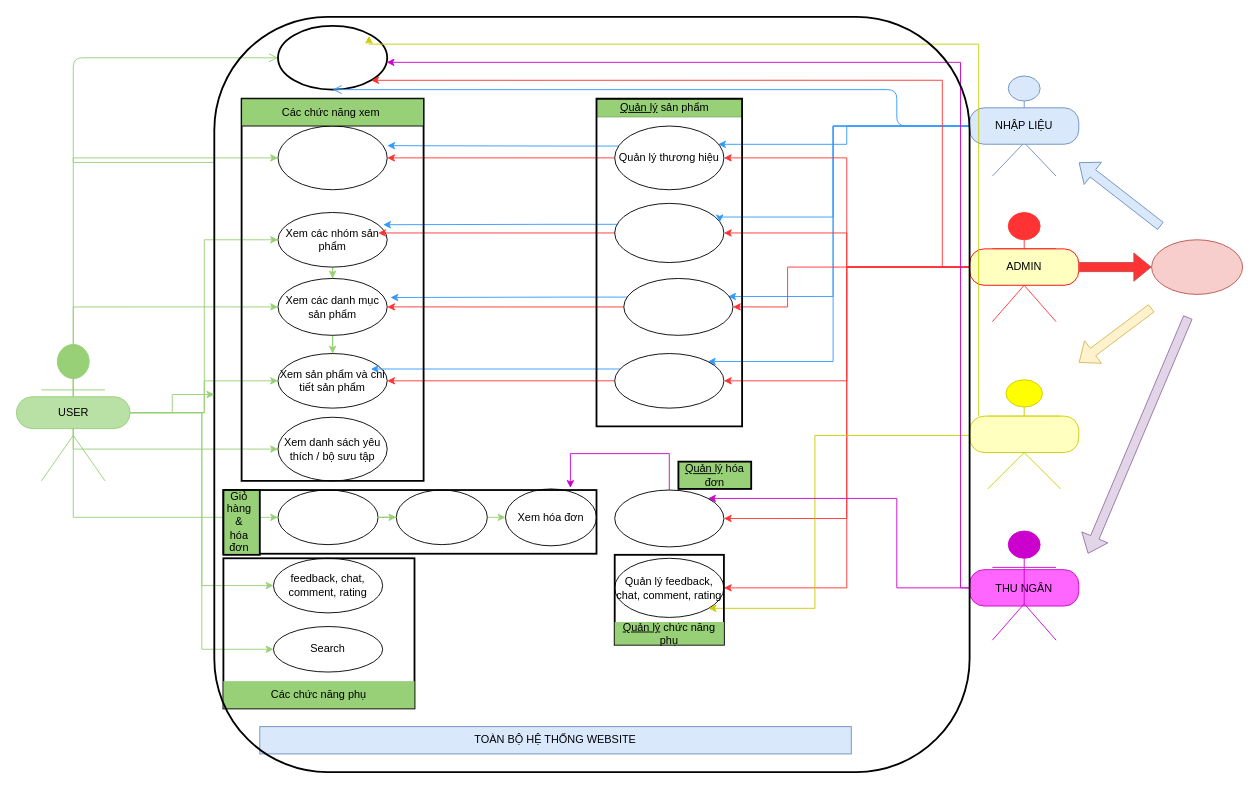
Some shapes in this 1259 by 788 pixel diagram are drawn without their labels. Each missing label, with the centre of its shape:
"phân quyền" goes at point 1197,266.
"Quản lý danh mục" goes at point 678,306.
"Quản lý giỏ hàng" goes at point 327,517.
"Quản lý nhóm" goes at point 669,232.
"Quản lý sản phẩm & chi tiết sản phẩm" goes at point 669,380.
"Quản lý tất cả hóa đơn" goes at point 669,518.
"QUẢN TRỊ VIÊN" goes at point 1024,434.
"Xem danh sách thương hiệu" goes at point 332,157.
"Xem lịch sử đặt hàng" goes at point 441,517.
"Đăng nhập, chỉnh sửa thông tin cá nhân" goes at point 332,57.
